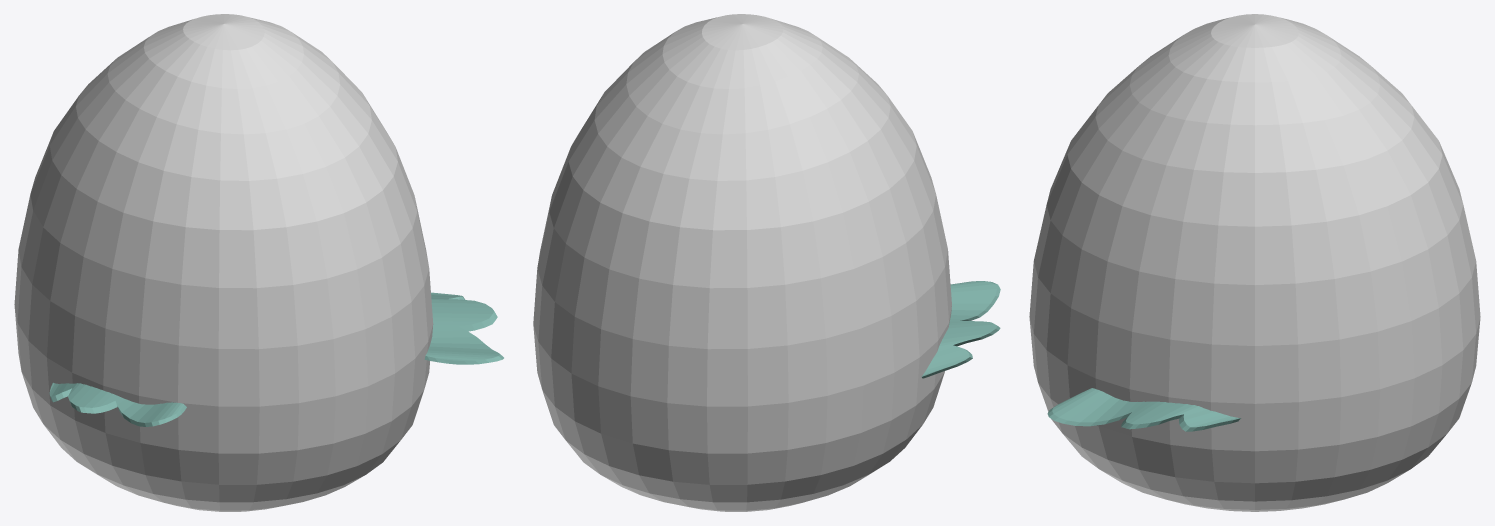
The model's file is chicken.glb.
3 views of the same model, side by side, from view 1: azimuth 30°, elevation 25°; view 2: azimuth 150°, elevation 25°; view 3: azimuth 270°, elevation 25° (orthographic).
Visible parts, largest first — view 1: Sphere, wing, wing2; view 2: Sphere, wing2; view 3: Sphere, wing.
Part boxes in pixels (x1=…): Sphere: x1=14, y1=14, x2=433, y2=511; wing: x1=424, y1=292, x2=503, y2=364; wing2: x1=49, y1=382, x2=186, y2=426; Sphere: x1=533, y1=14, x2=951, y2=511; wing2: x1=921, y1=281, x2=1000, y2=378; Sphere: x1=1029, y1=14, x2=1480, y2=511; wing: x1=1047, y1=388, x2=1240, y2=431.
Bounding box in the file's own units: 0.3745 × 0.4005 × 0.3514.
